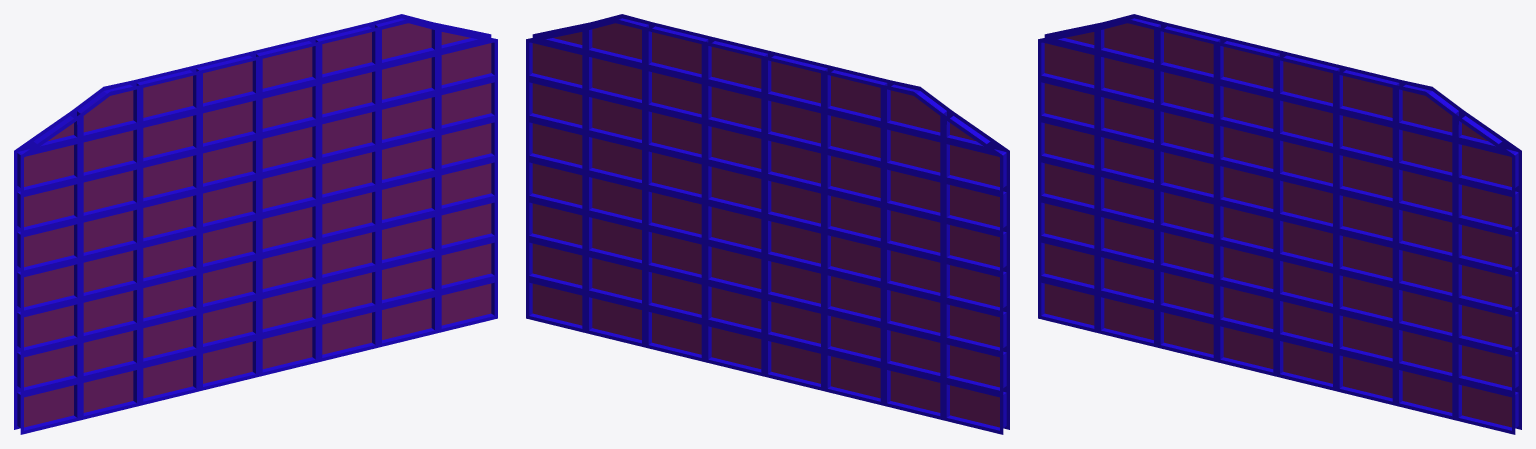
The model's file is menu_window.fbx.
3 renders of one model, left to right at view 1: azimuth 30°, elevation 25°; view 2: azimuth 150°, elevation 25°; view 3: azimuth 330°, elevation 25°, orthographic.
Visible parts, largest first — view 1: menu_window15; view 2: menu_window15; view 3: menu_window15.
Boxes of the visible parts, x1,y1,x2,y2 form: menu_window15: (14,14,497,434); menu_window15: (526,14,1009,434); menu_window15: (1038,14,1521,434).
Bounding box in the file's own units: 7.4 × 4.76 × 0.1807.
